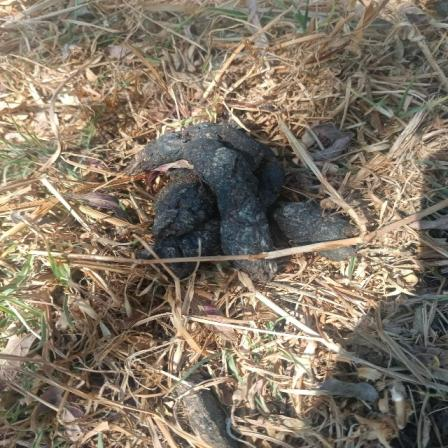dog-poop: (112, 119, 359, 280)
